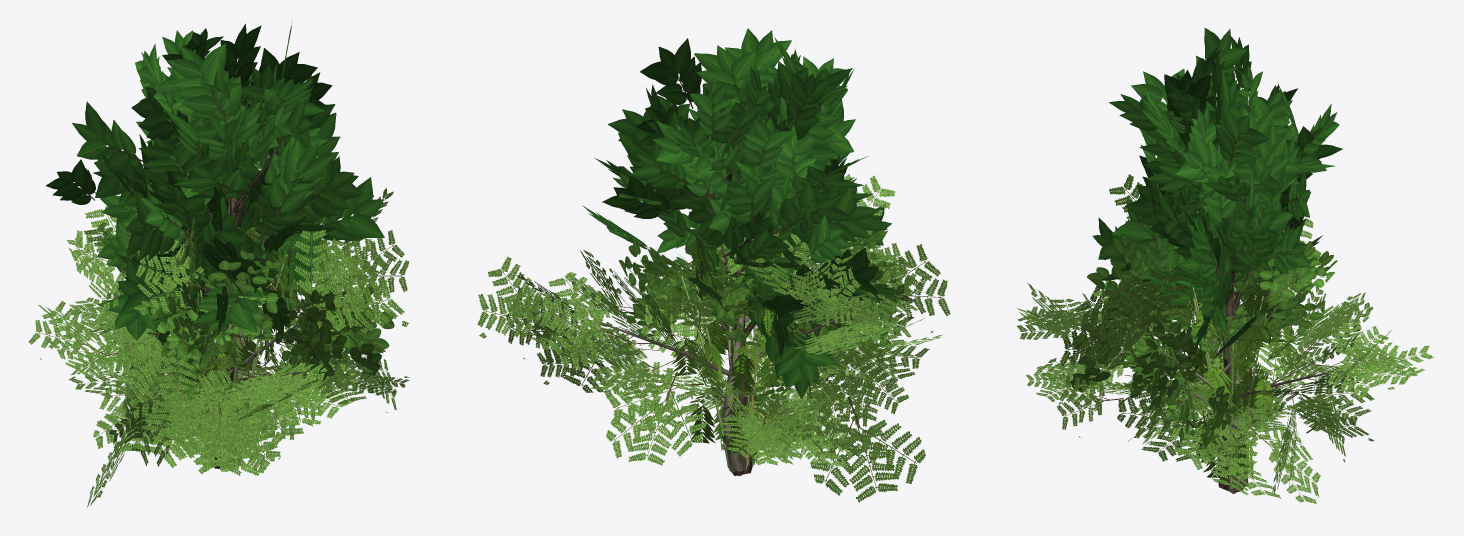
File: veg_lod2.glb
3 renders of one model, left to right at view 1: azimuth 30°, elevation 25°; view 2: azimuth 150°, elevation 25°; view 3: azimuth 270°, elevation 25°, orthographic. The views are drawn at different scales.
Visible parts, largest first — view 1: Sal_LOD2_Leaves, Albizia_LOD2_Leaves, Sissoo_LOD2_Leaves, Bamboo_LOD2_Leaves, Sal_LOD2_Wood; view 2: Sal_LOD2_Leaves, Albizia_LOD2_Leaves, Sissoo_LOD2_Leaves, Bamboo_LOD2_Leaves, Sissoo_LOD2_Wood, Sal_LOD2_Wood, Bamboo_LOD2_Wood, Albizia_LOD2_Wood; view 3: Sal_LOD2_Leaves, Albizia_LOD2_Leaves, Sissoo_LOD2_Leaves, Bamboo_LOD2_Leaves, Sal_LOD2_Wood, Bamboo_LOD2_Wood, Sissoo_LOD2_Wood, Albizia_LOD2_Wood.
Part boxes in pixels (x1,y1,x2,y2): Sal_LOD2_Leaves: [46, 19, 384, 387]; Albizia_LOD2_Leaves: [28, 160, 409, 507]; Sissoo_LOD2_Leaves: [133, 195, 394, 413]; Bamboo_LOD2_Leaves: [182, 243, 298, 451]; Sal_LOD2_Wood: [139, 116, 285, 468]; Sal_LOD2_Leaves: [582, 28, 904, 401]; Albizia_LOD2_Leaves: [477, 174, 950, 502]; Sissoo_LOD2_Leaves: [618, 221, 896, 403]; Bamboo_LOD2_Leaves: [663, 242, 784, 452]; Sissoo_LOD2_Wood: [689, 263, 823, 476]; Sal_LOD2_Wood: [682, 140, 791, 475]; Bamboo_LOD2_Wood: [680, 255, 770, 469]; Albizia_LOD2_Wood: [601, 271, 860, 416]; Sal_LOD2_Leaves: [1092, 28, 1342, 362]; Albizia_LOD2_Leaves: [1016, 174, 1433, 503]; Sissoo_LOD2_Leaves: [1070, 219, 1337, 448]; Bamboo_LOD2_Leaves: [1158, 282, 1297, 479]; Sal_LOD2_Wood: [1213, 210, 1251, 493]; Bamboo_LOD2_Wood: [1192, 283, 1266, 489]; Sissoo_LOD2_Wood: [1157, 295, 1284, 494]; Albizia_LOD2_Wood: [1086, 344, 1351, 427].
Size of the model in its own units: 27.39 by 29.26 by 26.52.
11 materials, 9 textured.
